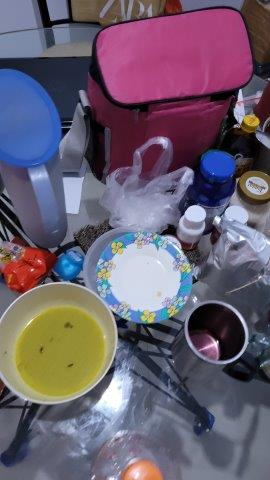plastik: (101, 136, 194, 238)
